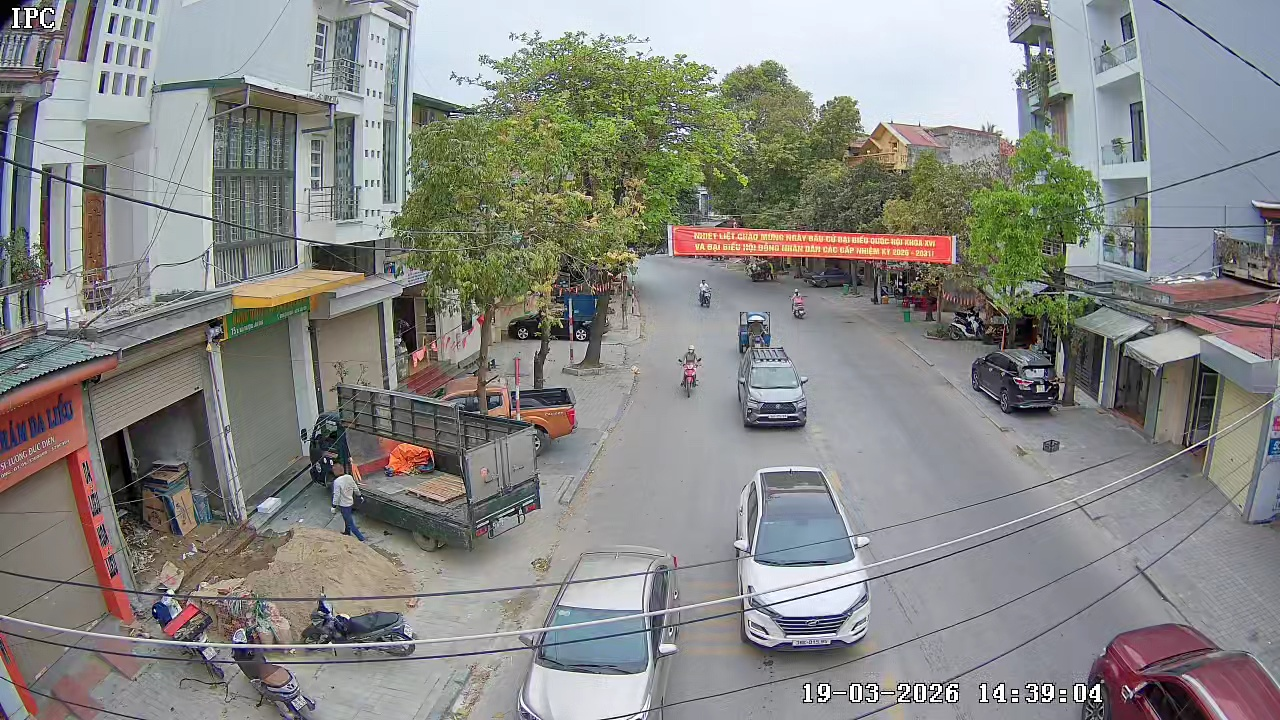car: (518, 546, 682, 719), (732, 464, 872, 650), (737, 350, 811, 430), (511, 385, 577, 449)
motorbike: (678, 344, 703, 399), (791, 290, 806, 320), (699, 279, 714, 308)
pedestrian: (330, 471, 364, 539)
